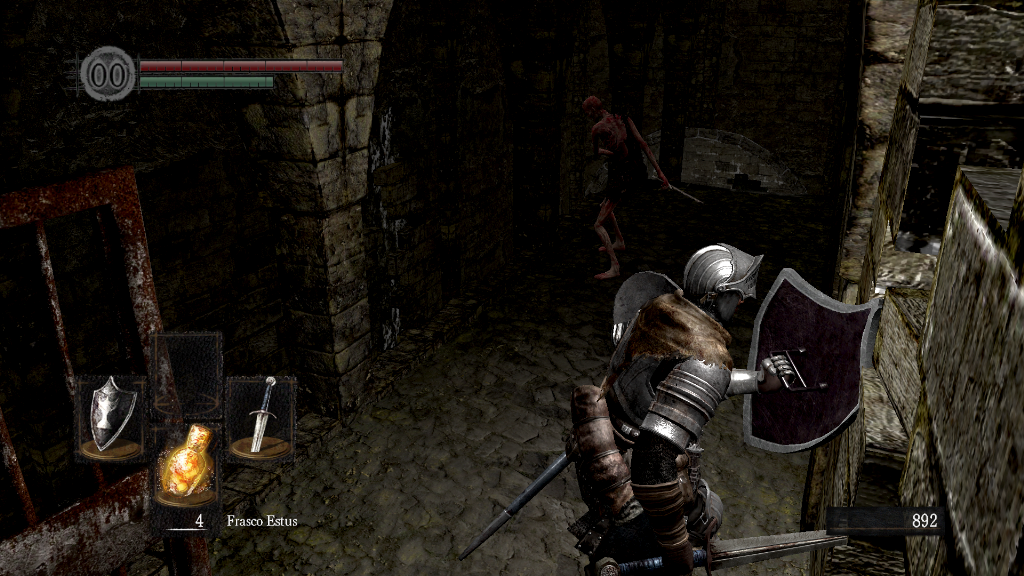health: (138, 58, 343, 71)
hollow: (576, 91, 672, 282)
humanity: (80, 45, 136, 102)
player: (563, 244, 886, 576)
souls: (825, 506, 945, 536)
stamina: (138, 74, 274, 88)
